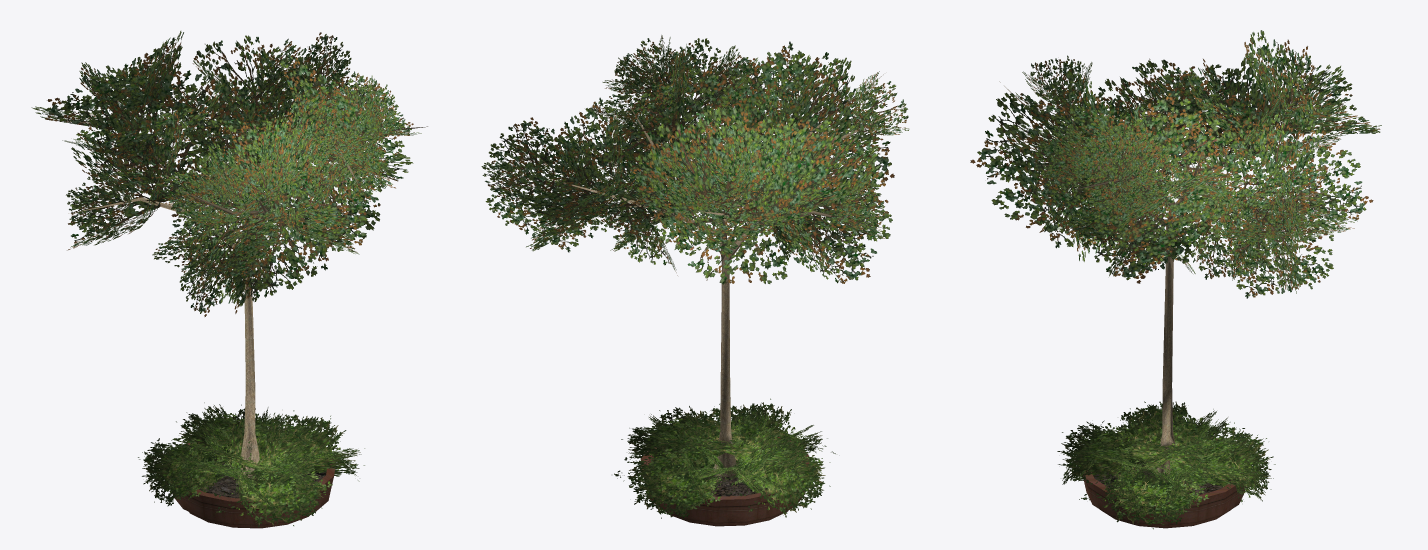
File: mun_all_imprv_planter_s03_l0.fbx
The picture shows the model from 3 angles, left to right: view 1: azimuth 30°, elevation 25°; view 2: azimuth 150°, elevation 25°; view 3: azimuth 270°, elevation 25°; orthographic projection.
Parts seen in each view (by area): view 1: mesh_node; view 2: mesh_node; view 3: mesh_node.
Boxes of the visible parts, x1=… form: mesh_node: x1=31, y1=31, x2=427, y2=528; mesh_node: x1=481, y1=35, x2=909, y2=526; mesh_node: x1=970, y1=30, x2=1381, y2=529.
Size of the model in its own units: 12.17 by 14.12 by 13.08.
